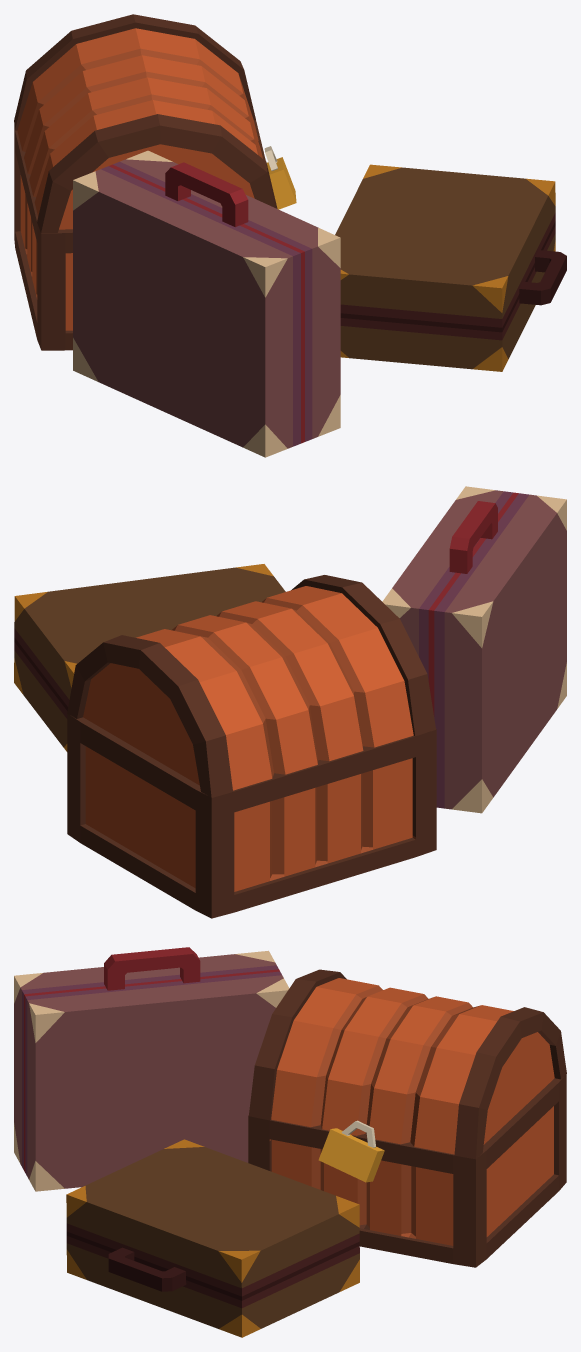
3 views of the same model, one above another, from view 1: azimuth 30°, elevation 25°; view 2: azimuth 150°, elevation 25°; view 3: azimuth 270°, elevation 25° (orthographic). The views are drawn at different scales.
Parts seen in each view (by area): view 1: mr 5; view 2: mr 5; view 3: mr 5.
Part boxes in pixels (x1=…): mr 5: x1=14, y1=14, x2=566, y2=457; mr 5: x1=14, y1=486, x2=566, y2=918; mr 5: x1=14, y1=947, x2=566, y2=1337.
Bounding box in the file's own units: 255 × 120 × 282.
